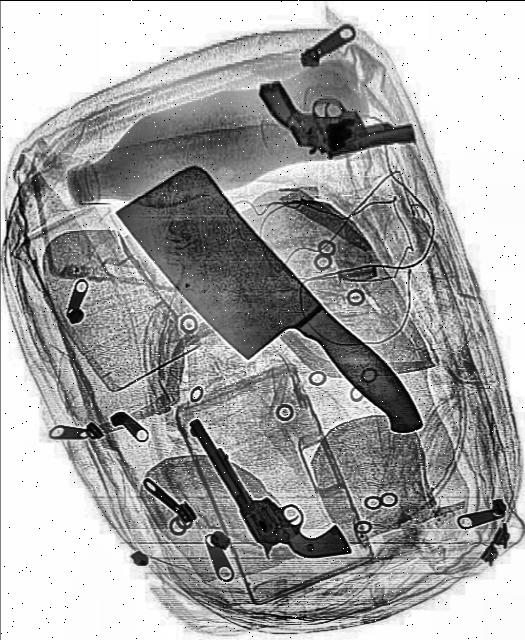Gun: (156, 410, 364, 592), (242, 76, 422, 170)
Knife: (110, 130, 438, 497)
